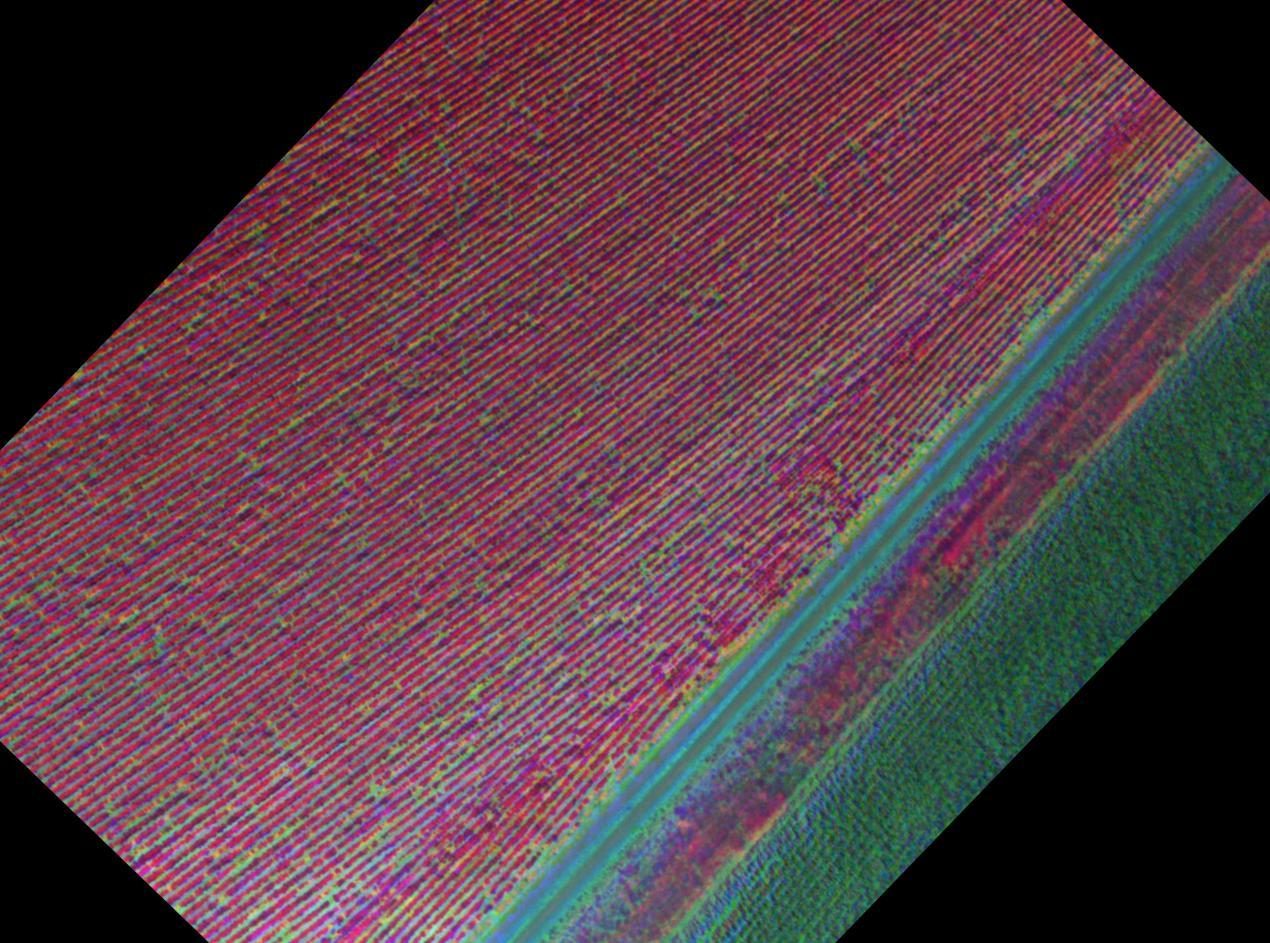dc: (655, 642, 660, 648), (471, 693, 476, 697), (612, 610, 616, 614), (816, 370, 820, 373), (869, 122, 872, 125), (262, 315, 265, 318), (837, 462, 840, 465)
